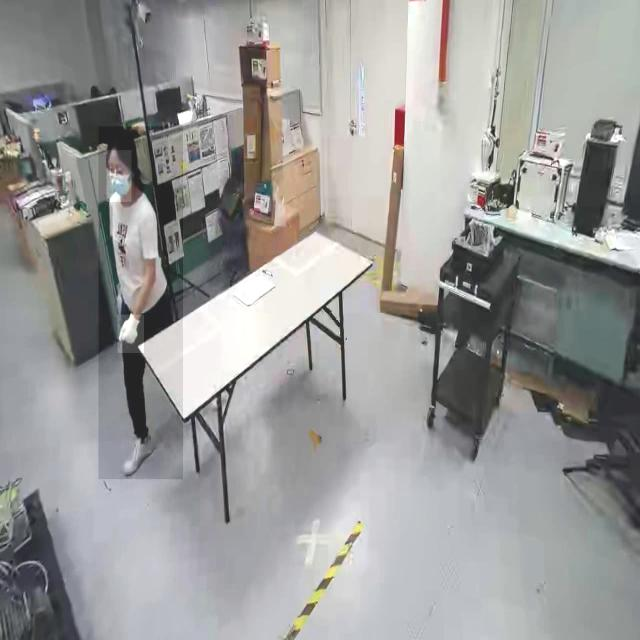face_mask: (106, 150, 132, 202)
hand_glove: (117, 314, 144, 354)
head_nohelmet: (108, 127, 138, 149)
person: (98, 126, 183, 480)
shoes: (121, 423, 160, 476)
